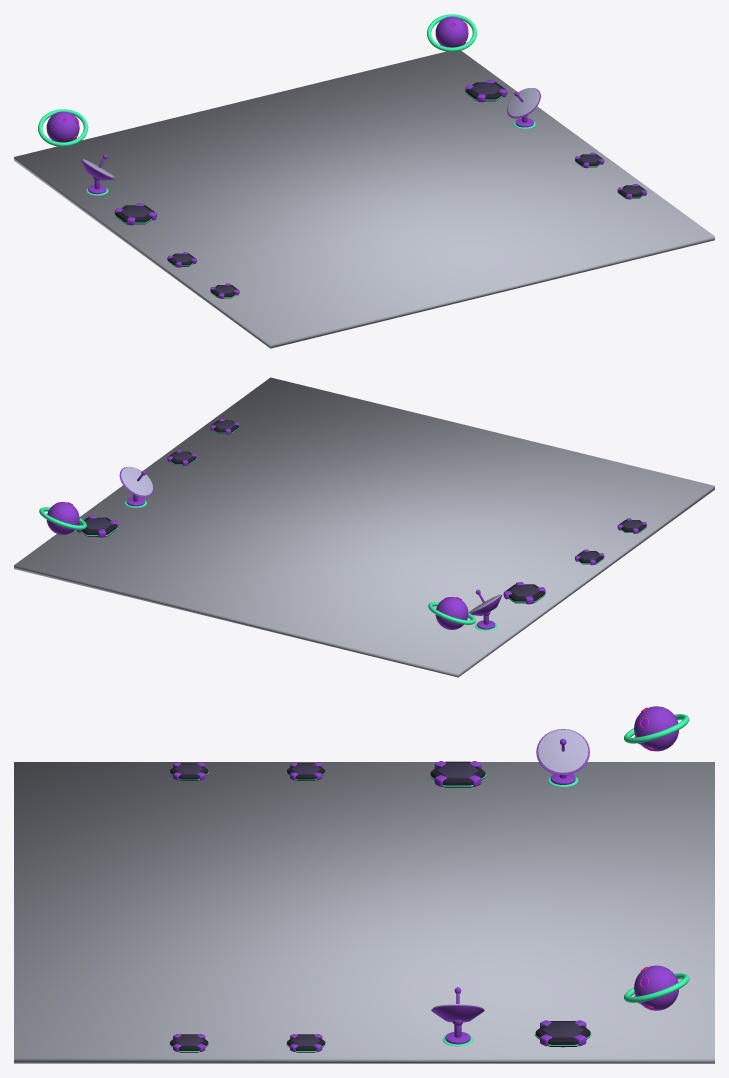
Rendered from Lenda.fbx.
3 views of the same model, one above another, from view 1: azimuth 30°, elevation 25°; view 2: azimuth 150°, elevation 25°; view 3: azimuth 270°, elevation 25° (orthographic). The views are drawn at different scales.
Visible parts, largest first — view 1: Root, Orbit, Neon_Mint, Body, Dark, Lilac; view 2: Root, Orbit, Body, Dark, Neon_Mint, Lilac; view 3: Root, Orbit, Body, Dark, Lilac, Neon_Mint.
Boxes of the visible parts, left/top/right/bottom form: Root: left=14, top=50, right=714, bottom=348; Orbit: left=46, top=16, right=646, bottom=298; Neon_Mint: left=38, top=14, right=643, bottom=297; Body: left=120, top=83, right=642, bottom=293; Dark: left=115, top=82, right=645, bottom=298; Lilac: left=82, top=88, right=539, bottom=178; Root: left=14, top=377, right=714, bottom=677; Orbit: left=46, top=418, right=646, bottom=629; Body: left=85, top=421, right=642, bottom=596; Dark: left=78, top=420, right=646, bottom=603; Neon_Mint: left=39, top=427, right=646, bottom=630; Lilac: left=121, top=467, right=500, bottom=613; Root: left=14, top=762, right=714, bottom=1063; Orbit: left=173, top=706, right=678, bottom=1051; Body: left=174, top=762, right=583, bottom=1046; Dark: left=170, top=761, right=590, bottom=1052; Lilac: left=433, top=729, right=588, bottom=1008; Neon_Mint: left=169, top=714, right=689, bottom=1051.
Bounding box in the file's own units: 120 × 14.63 × 120.
